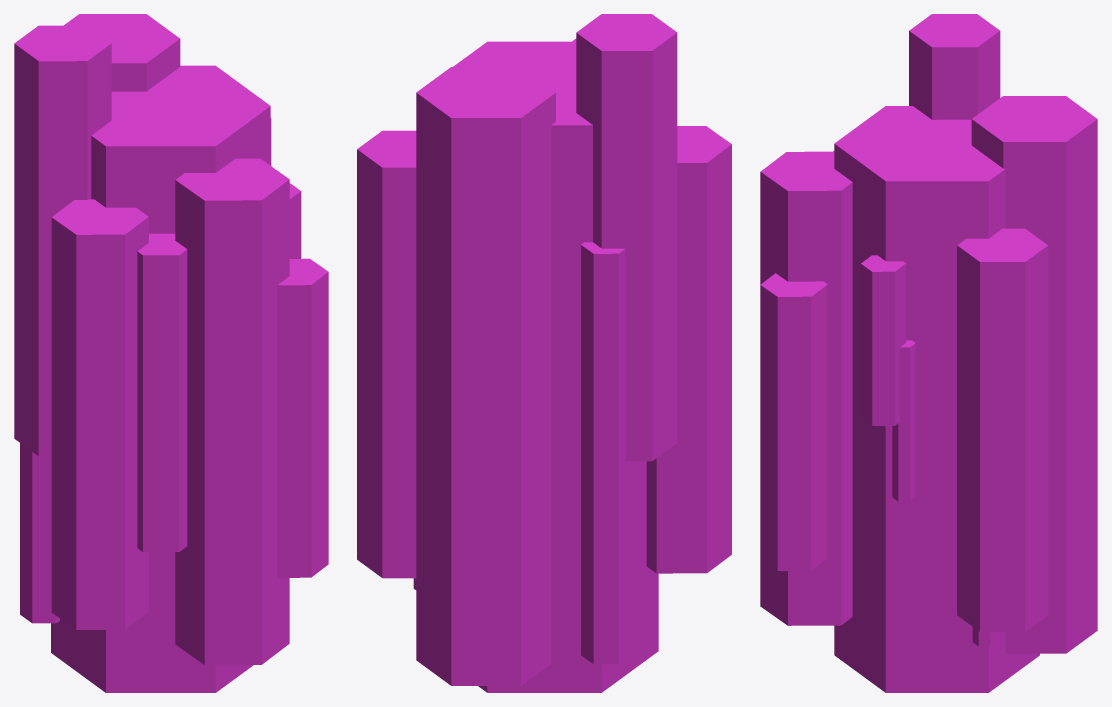
File: Crystal Chunk 4.fbx
3 views of the same model, side by side, from view 1: azimuth 30°, elevation 25°; view 2: azimuth 150°, elevation 25°; view 3: azimuth 270°, elevation 25° (orthographic). The views are drawn at different scales.
Visible parts, largest first — view 1: Crystal Chunk 4; view 2: Crystal Chunk 4; view 3: Crystal Chunk 4.
Part boxes in pixels (box(x1,y1,x2,y2)): Crystal Chunk 4: box(14, 14, 328, 692); Crystal Chunk 4: box(357, 14, 731, 692); Crystal Chunk 4: box(760, 14, 1097, 692).
Bounding box in the file's own units: 280 × 626 × 328.
